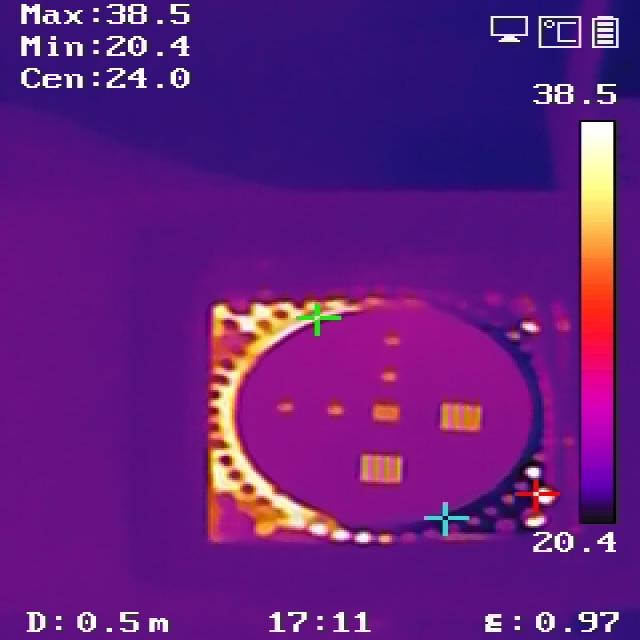Indistinguishable 4-bar target: (372, 402, 403, 424)
threshold 4-bar target: (359, 455, 404, 485), (445, 402, 483, 431)
